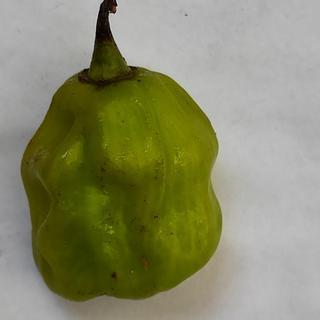Fly-bites: (149, 210, 165, 222), (108, 270, 120, 283), (97, 182, 108, 193), (97, 165, 108, 175), (170, 230, 178, 240)
